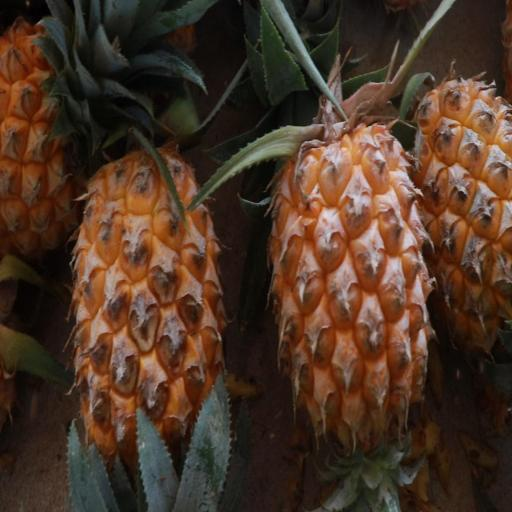Pineapple - v8 v1: (264, 113, 434, 512), (66, 122, 235, 512), (409, 65, 512, 377), (0, 1, 110, 273)
